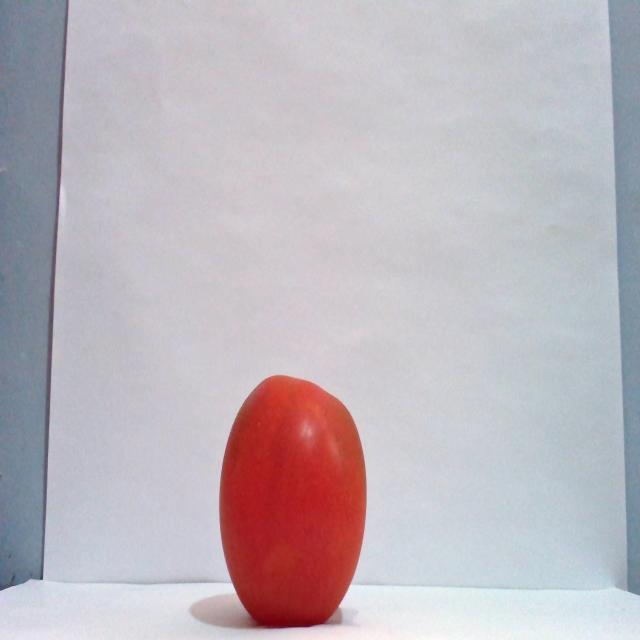Red: (217, 373, 368, 627)
